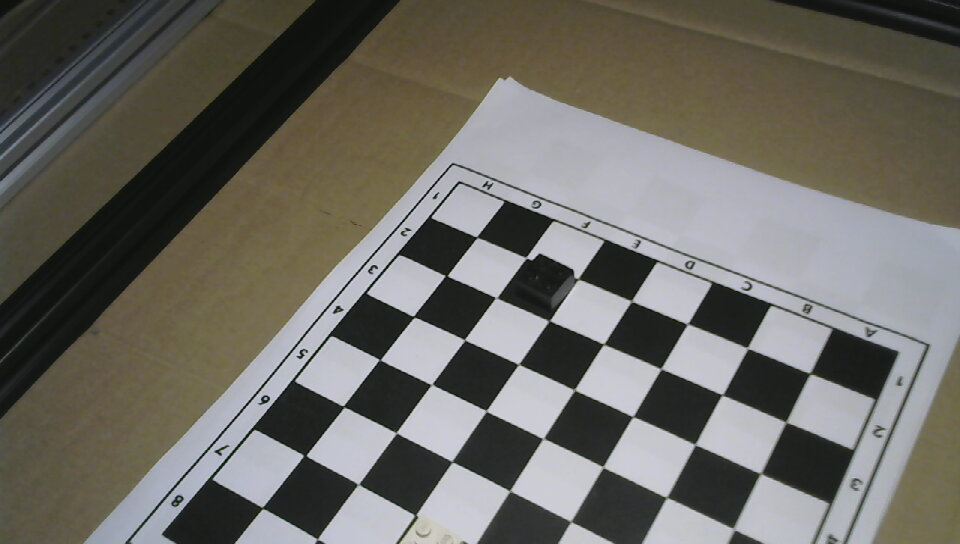bp: (510, 248, 578, 317)
